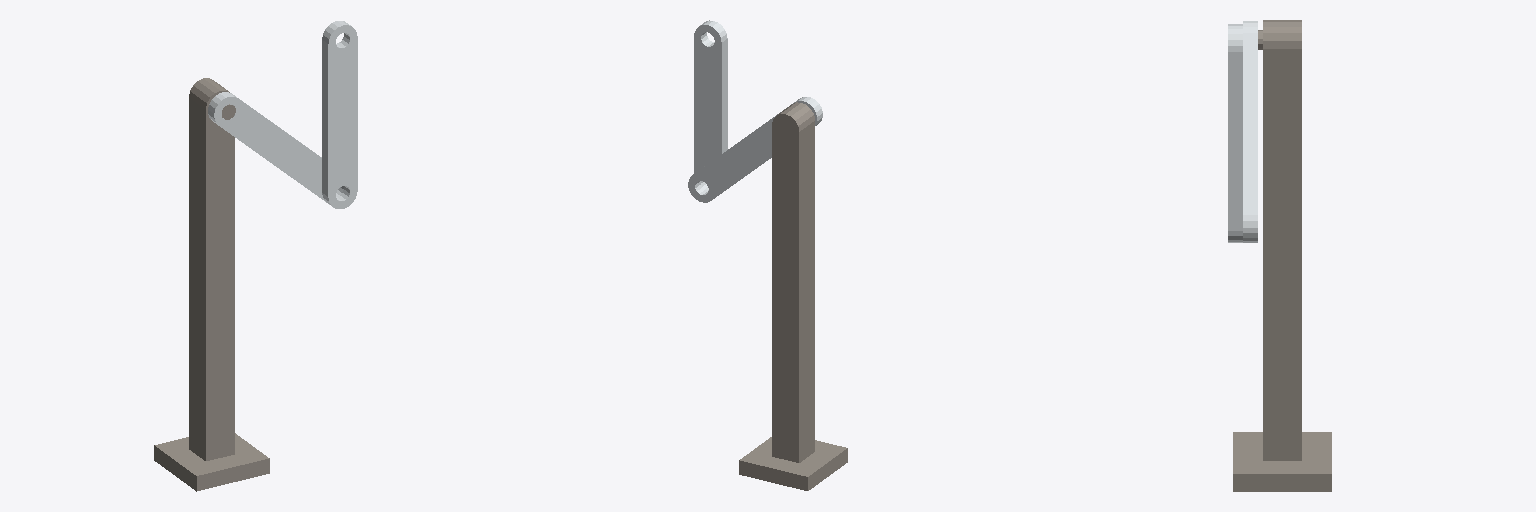
The robot description file, URDF, robot "DoublePendulum":
<?xml version="1.0" encoding="utf-8"?>
<robot
  name="DoublePendulum">
  <link
    name="base_link">
    <inertial>
      <origin
        xyz="2.22778080438587E-18 0.0000 0.00019484438290193"
        rpy="0 0 0" />
      <mass
        value="7.64258581963359" />
      <inertia
        ixx="0.196242928888261"
        ixy="-7.01395317802837E-19"
        ixz="-4.26515781331322E-21"
        iyy="0.00427744682275082"
        iyz="-0.000404930792397016"
        izz="0.196191513654848" />
    </inertial>
    <visual>
      <origin
        xyz="0 0 0"
        rpy="0 0 0" />
      <geometry>
        <mesh
          filename="package://DoublePendulum/meshes/base_link.STL" />
      </geometry>
      <material
        name="">
        <color
          rgba="0.647058823529412 0.619607843137255 0.588235294117647 1" />
      </material>
    </visual>
    <collision>
      <origin
        xyz="0 0 0"
        rpy="0 0 0" />
      <geometry>
        <mesh
          filename="package://DoublePendulum/meshes/base_link.STL" />
      </geometry>
    </collision>
  </link>
  <link
    name="A1">
    <inertial>
      <origin
        xyz="0.0737949007115278 -0.067485647577658 -0.0075"
        rpy="0 0 0" />
      <mass
        value="0.350094024383882" />
      <inertia
        ixx="0.000682901165952696"
        ixy="0.000687363022978262"
        ixz="9.66199963952858E-21"
        iyy="0.000805930512334875"
        iyz="-6.49515796525027E-21"
        izz="0.00147570315237318" />
    </inertial>
    <visual>
      <origin
        xyz="0 0 0"
        rpy="0 0 0" />
      <geometry>
        <mesh
          filename="package://DoublePendulum/meshes/A1.STL" />
      </geometry>
      <material
        name="">
        <color
          rgba="0.898039215686275 0.917647058823529 0.929411764705882 1" />
      </material>
    </visual>
    <collision>
      <origin
        xyz="0 0 0"
        rpy="0 0 0" />
      <geometry>
        <mesh
          filename="package://DoublePendulum/meshes/A1.STL" />
      </geometry>
    </collision>
  </link>
  <joint
    name="A1"
    type="continuous">
    <origin
      xyz="0 -0.04 0.48"
      rpy="1.5708 0 0" />
    <parent
      link="base_link" />
    <child
      link="A1" />
    <axis
      xyz="0 0 1" />
  </joint>
  <link
    name="A2">
    <inertial>
      <origin
        xyz="2.4980018054066E-16 0.0999999999999995 0.0075"
        rpy="0 0 0" />
      <mass
        value="0.350094024383882" />
      <inertia
        ixx="0.00143452596106319"
        ixy="-1.49481697663122E-20"
        ixz="7.63741374107627E-22"
        iyy="5.43057172243773E-05"
        iyz="-3.859728135749E-21"
        izz="0.00147570315237318" />
    </inertial>
    <visual>
      <origin
        xyz="0 0 0"
        rpy="0 0 0" />
      <geometry>
        <mesh
          filename="package://DoublePendulum/meshes/A2.STL" />
      </geometry>
      <material
        name="">
        <color
          rgba="0.898039215686275 0.917647058823529 0.929411764705882 1" />
      </material>
    </visual>
    <collision>
      <origin
        xyz="0 0 0"
        rpy="0 0 0" />
      <geometry>
        <mesh
          filename="package://DoublePendulum/meshes/A2.STL" />
      </geometry>
    </collision>
  </link>
  <joint
    name="A2"
    type="continuous">
    <origin
      xyz="0.14759 -0.13497 0"
      rpy="0 0 0" />
    <parent
      link="A1" />
    <child
      link="A2" />
    <axis
      xyz="0 0 -1" />
  </joint>
</robot>

--- Render facts (derived) ---
The picture shows the robot from 3 angles, left to right: view 1: azimuth 30°, elevation 25°; view 2: azimuth 150°, elevation 25°; view 3: azimuth 270°, elevation 25°; orthographic projection.
Model DoublePendulum with 3 links and 2 joints (2 continuous), rooted at base_link, posed all joints at 0.
Visible links, largest first — view 1: base_link, A2, A1; view 2: base_link, A2, A1; view 3: base_link, A1, A2.
Boxes of the visible links, box(x1,y1,x2,y2) form: base_link: box(154, 78, 269, 491); A2: box(322, 21, 357, 208); A1: box(208, 92, 343, 202); base_link: box(739, 102, 847, 490); A2: box(694, 20, 727, 190); A1: box(688, 97, 822, 202); base_link: box(1233, 20, 1331, 491); A1: box(1243, 21, 1257, 242); A2: box(1228, 24, 1242, 242).
Size in the robot's own frame: 0.2176 by 0.105 by 0.565 metres.
3 mesh visuals loaded from 3 distinct referenced files (3 binary STL).